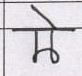e_matra: (31, 6, 58, 28)
